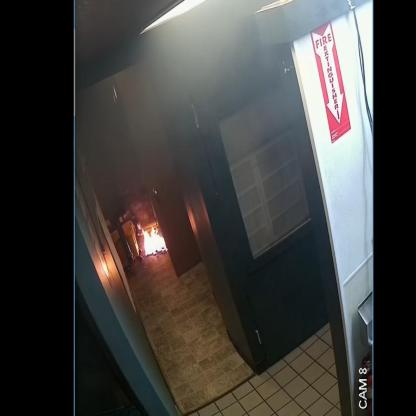fire: (142, 226, 168, 256)
